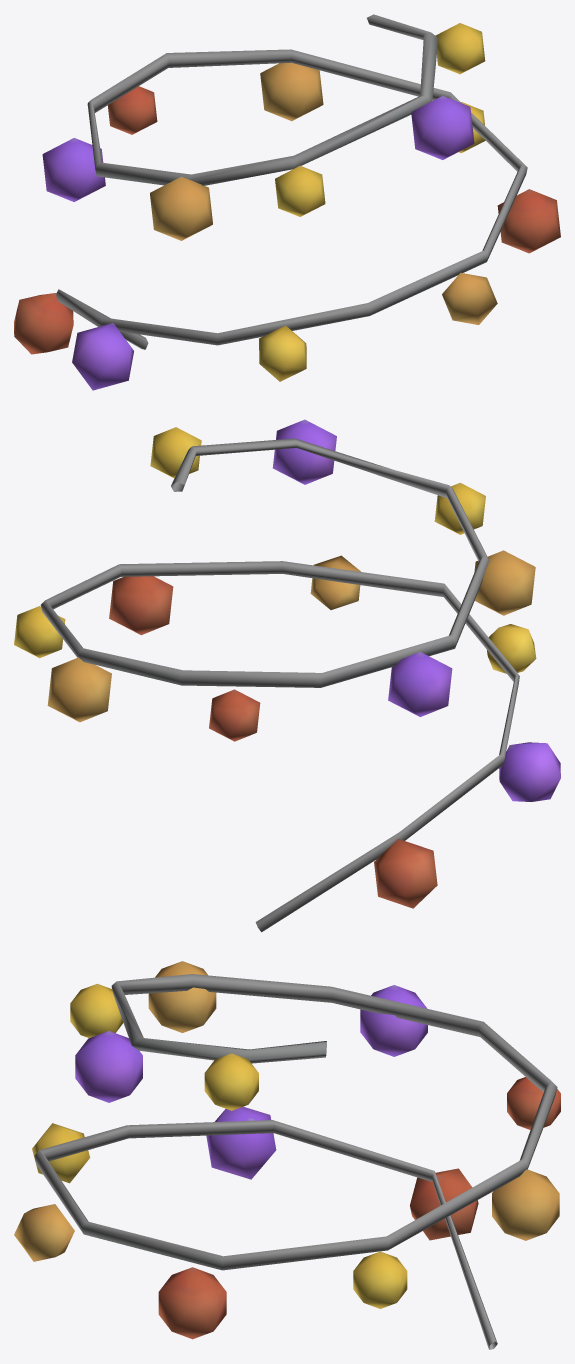
The model's file is pref_sm_city_light03c_snow_lv3.fbx.
The picture shows the model from 3 angles, top to bottom: view 1: azimuth 30°, elevation 25°; view 2: azimuth 150°, elevation 25°; view 3: azimuth 270°, elevation 25°; orthographic projection. The views are drawn at different scales.
Visible parts, largest first — view 1: pref_sm_city_light03c_snow_lv3; view 2: pref_sm_city_light03c_snow_lv3; view 3: pref_sm_city_light03c_snow_lv3.
Boxes of the visible parts, <box> form: pref_sm_city_light03c_snow_lv3: <box>14,14,560,390</box>; pref_sm_city_light03c_snow_lv3: <box>14,419,560,932</box>; pref_sm_city_light03c_snow_lv3: <box>14,961,560,1349</box>.
Size of the model in its own units: 2.78 by 2.04 by 2.49.
